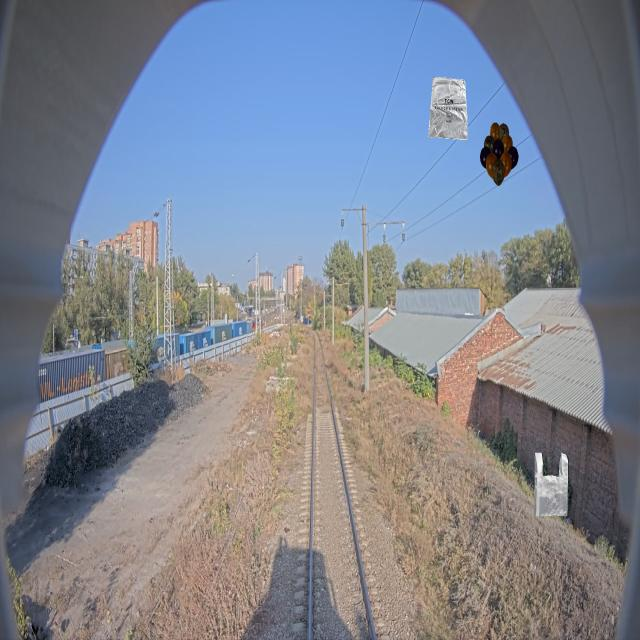balloon: (479, 122, 518, 186)
plastic bag: (428, 76, 468, 140), (534, 452, 568, 516)
